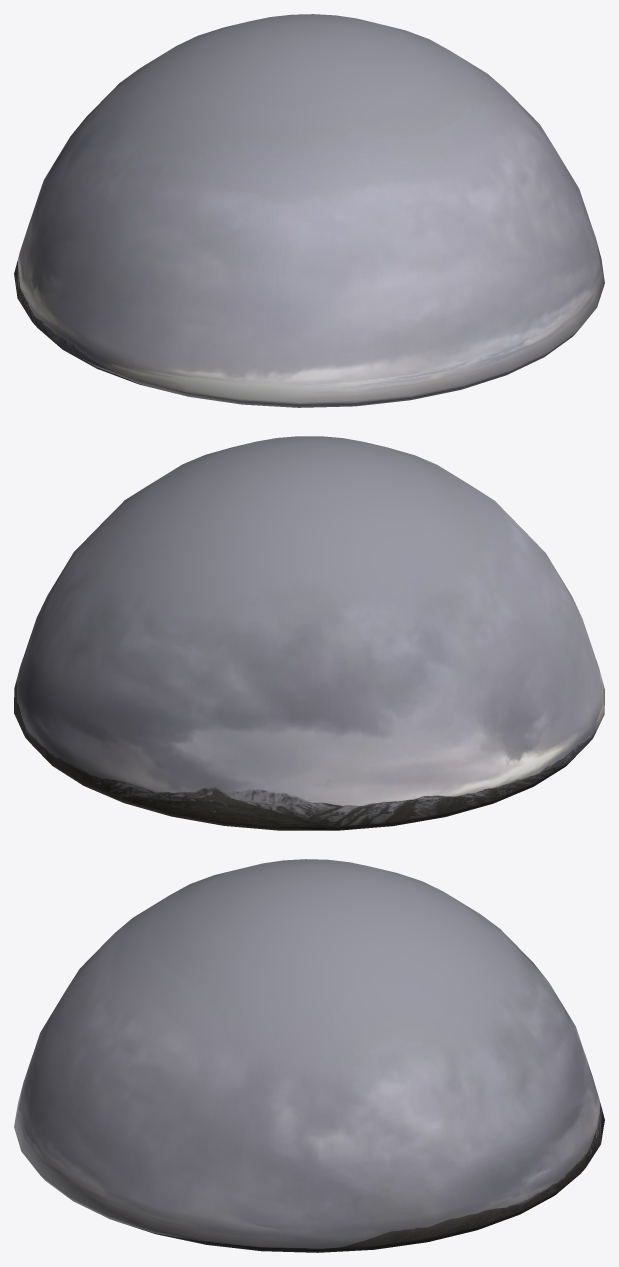
Rendered from ДОМ скетч.fbx.
3 views of the same model, one above another, from view 1: azimuth 30°, elevation 25°; view 2: azimuth 150°, elevation 25°; view 3: azimuth 270°, elevation 25° (orthographic).
Visible parts, largest first — view 1: Sphere; view 2: Sphere; view 3: Sphere.
Boxes of the visible parts, bbox=[...] form: Sphere: bbox=[14, 14, 604, 407]; Sphere: bbox=[14, 436, 604, 830]; Sphere: bbox=[14, 859, 604, 1252].
Size of the model in its own units: 10340 by 5247 by 10340.
14 materials, 11 textured.
